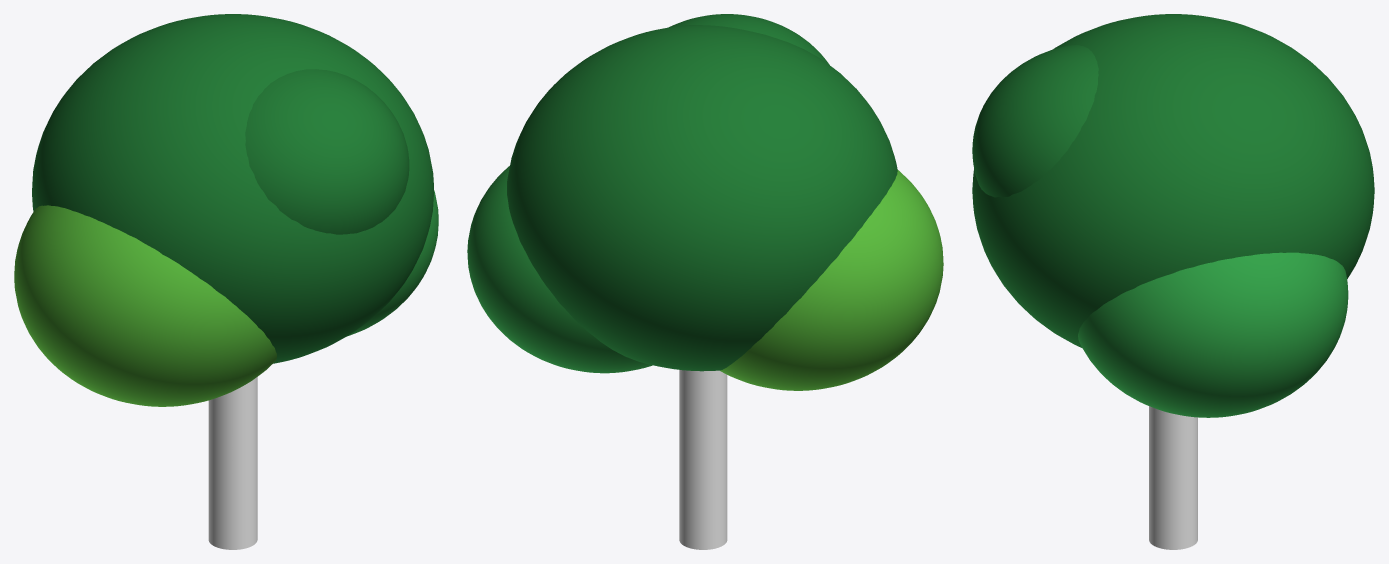
File: round_tree.glb
3 renders of one model, left to right at view 1: azimuth 30°, elevation 25°; view 2: azimuth 150°, elevation 25°; view 3: azimuth 270°, elevation 25°, orthographic. The views are drawn at different scales.
Parts seen in each view (by area): view 1: Canopy0, Canopy2, Canopy3, TreeTrunk, Canopy1; view 2: Canopy0, Canopy2, Canopy1, TreeTrunk, Canopy3; view 3: Canopy0, Canopy1, Canopy3, TreeTrunk.
Boxes of the visible parts, box(x1,y1,x2,y2) form: Canopy0: box(32, 14, 433, 363); Canopy2: box(14, 205, 276, 406); Canopy3: box(245, 69, 409, 234); TreeTrunk: box(208, 377, 257, 549); Canopy1: box(347, 190, 438, 336); Canopy0: box(507, 25, 897, 371); Canopy2: box(720, 170, 943, 390); Canopy1: box(467, 166, 652, 373); TreeTrunk: box(679, 370, 727, 549); Canopy3: box(668, 14, 829, 64); Canopy0: box(972, 14, 1374, 347); Canopy1: box(1078, 252, 1348, 417); Canopy3: box(972, 45, 1098, 197); TreeTrunk: box(1149, 406, 1197, 549).
Bounding box in the file's own units: 2.75 × 3.18 × 2.3.
